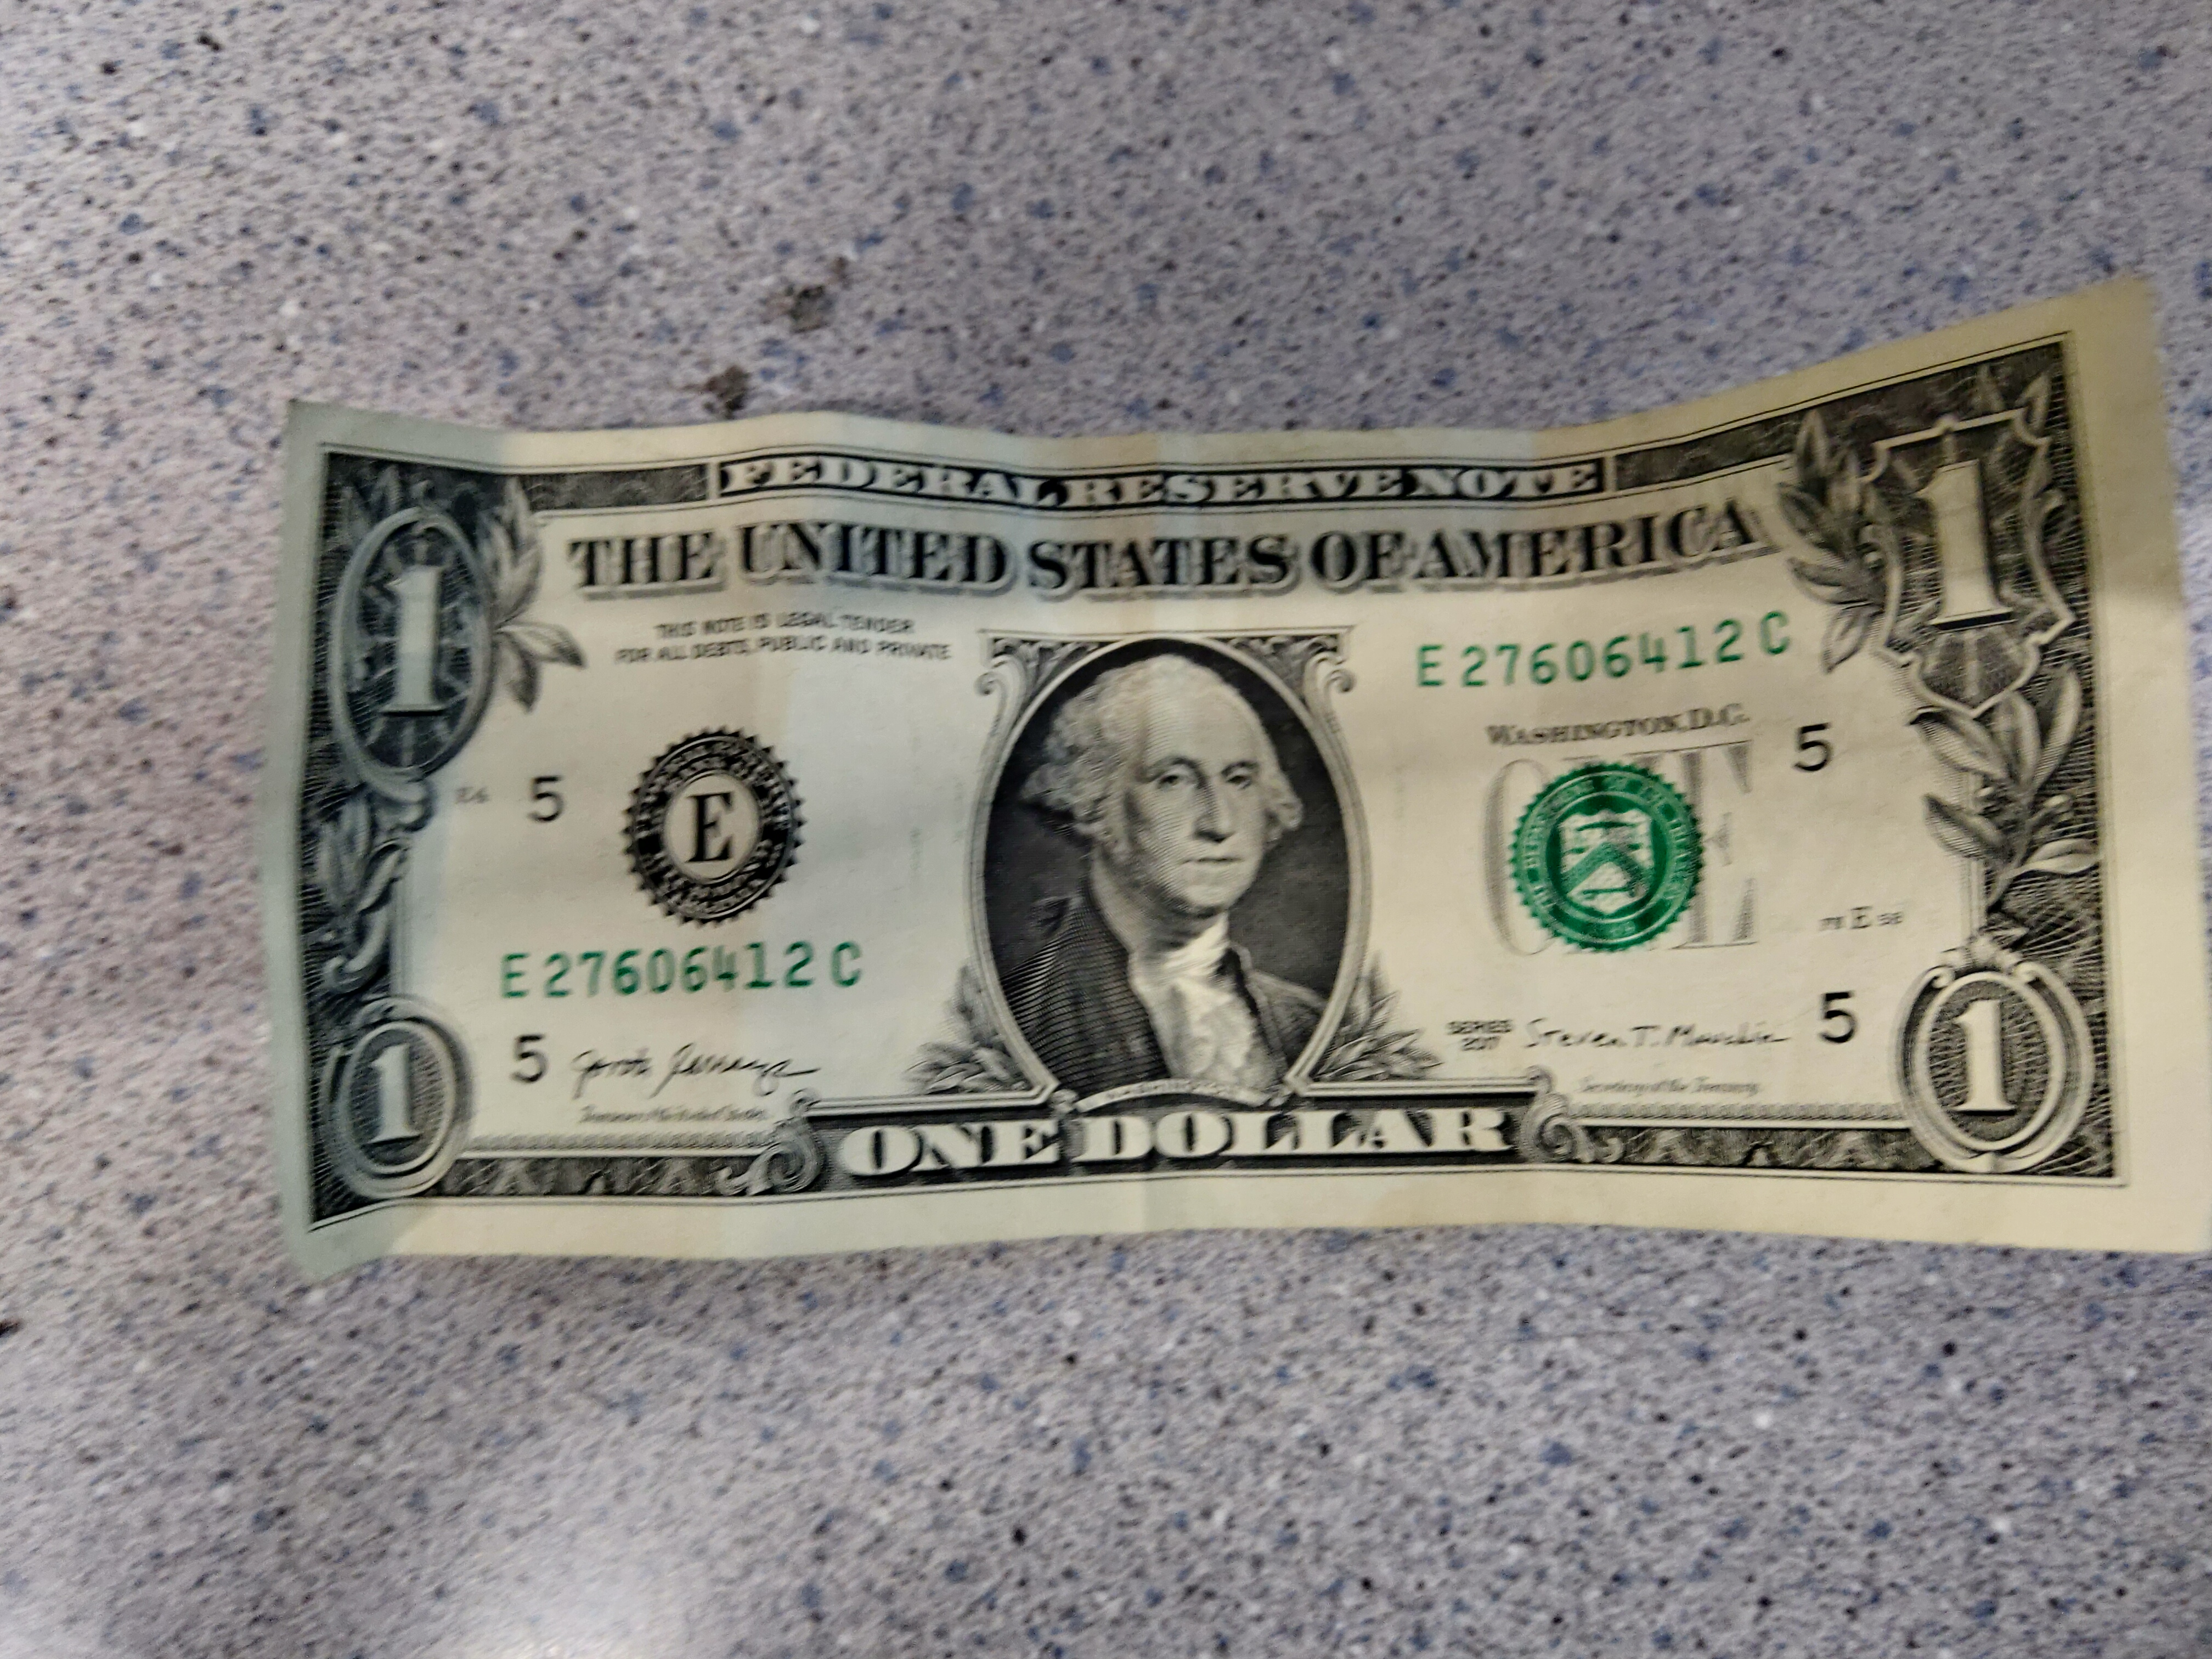OneBill: (258, 270, 2210, 1283)
